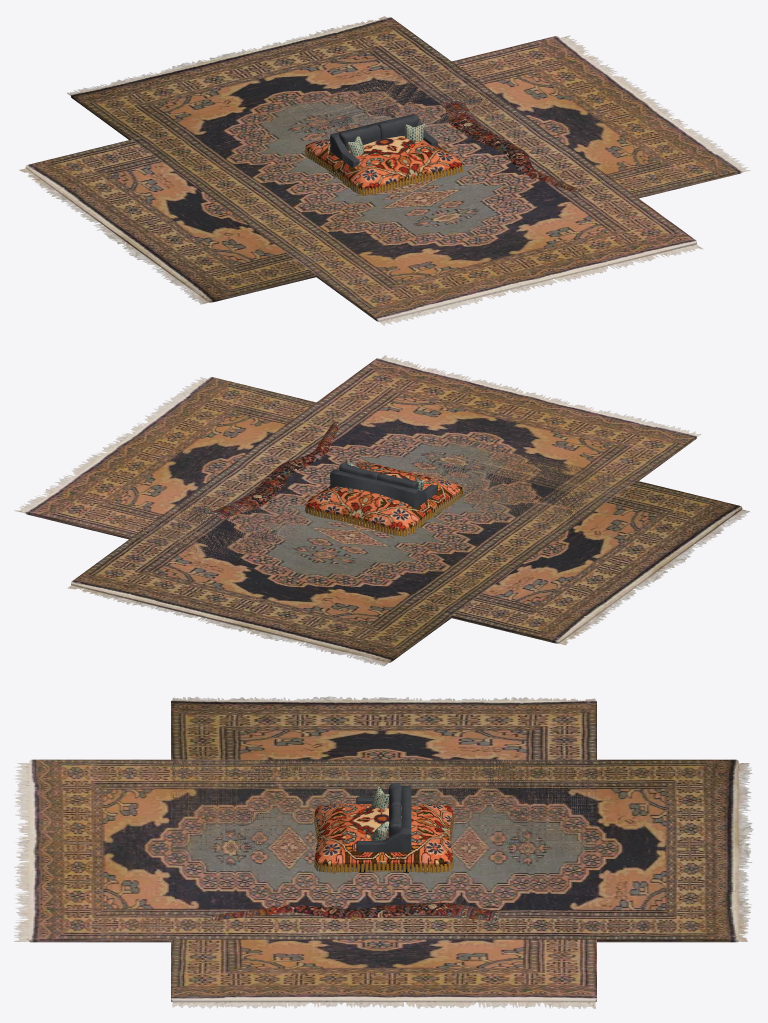
Rendered from moebel.glb.
3 views of the same model, one above another, from view 1: azimuth 30°, elevation 25°; view 2: azimuth 150°, elevation 25°; view 3: azimuth 270°, elevation 25° (orthographic). The views are drawn at different scales.
Parts seen in each view (by area): view 1: rug01_MDL_nar (×2), Coussin_Coussin1_0, Object_2, Tapis_Tapis1_0, Coussin_frange_Coussin1_0; view 2: rug01_MDL_nar (×2), Coussin_Coussin1_0, Object_2, Tapis_Tapis1_0, Coussin_frange_Coussin1_0; view 3: rug01_MDL_nar (×2), Coussin_Coussin1_0, Tapis_Tapis1_0, Object_2, Coussin_frange_Coussin1_0.
Boxes of the visible parts, bbox=[...] form: rug01_MDL_nar (×2): bbox=[19, 16, 750, 325]; Coussin_Coussin1_0: bbox=[305, 135, 462, 190]; Object_2: bbox=[330, 114, 437, 185]; Tapis_Tapis1_0: bbox=[444, 99, 584, 193]; Coussin_frange_Coussin1_0: bbox=[304, 147, 462, 195]; rug01_MDL_nar (×2): bbox=[14, 355, 749, 666]; Coussin_Coussin1_0: bbox=[305, 462, 462, 531]; Object_2: bbox=[330, 461, 437, 526]; Tapis_Tapis1_0: bbox=[207, 421, 340, 519]; Coussin_frange_Coussin1_0: bbox=[305, 488, 463, 536]; rug01_MDL_nar (×2): bbox=[14, 696, 753, 1008]; Coussin_Coussin1_0: bbox=[315, 803, 452, 867]; Tapis_Tapis1_0: bbox=[210, 902, 501, 921]; Object_2: bbox=[356, 783, 411, 872]; Coussin_frange_Coussin1_0: bbox=[314, 813, 453, 872].
Bounding box in the file's own units: 521 × 37.95 × 521.
Materials: 26 (26 with a texture image).
